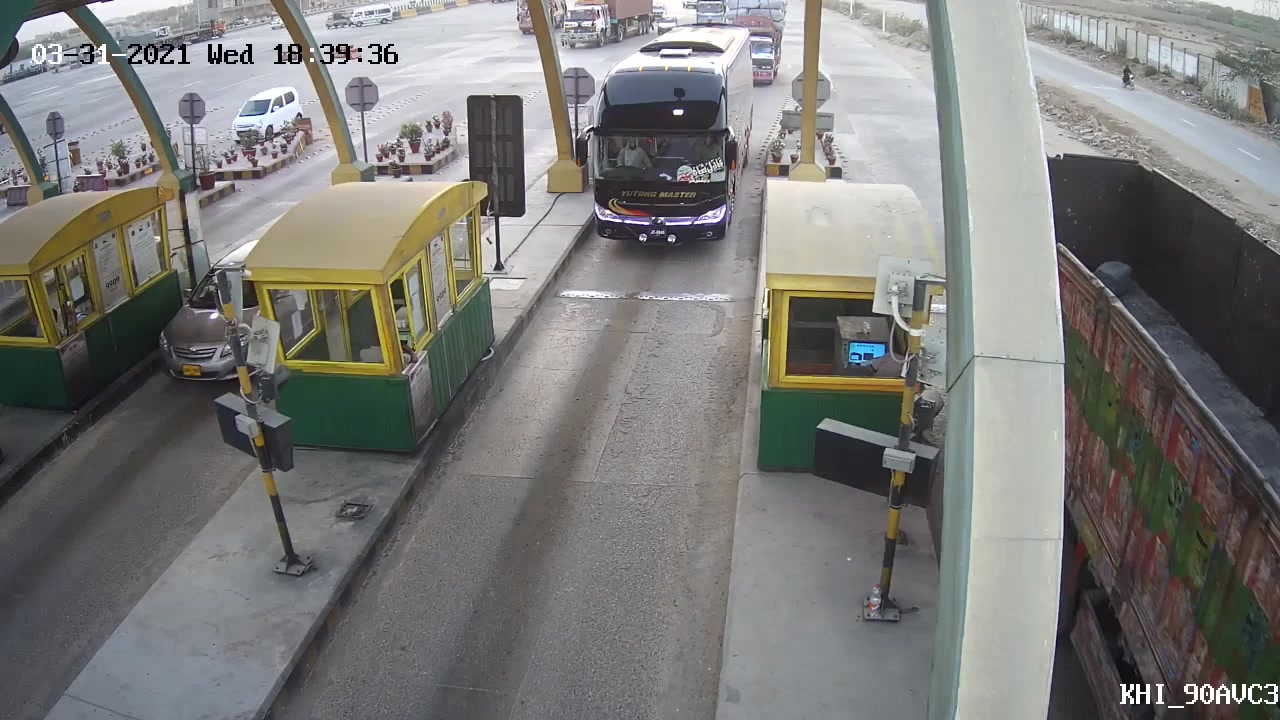F4: (569, 18, 759, 256)
